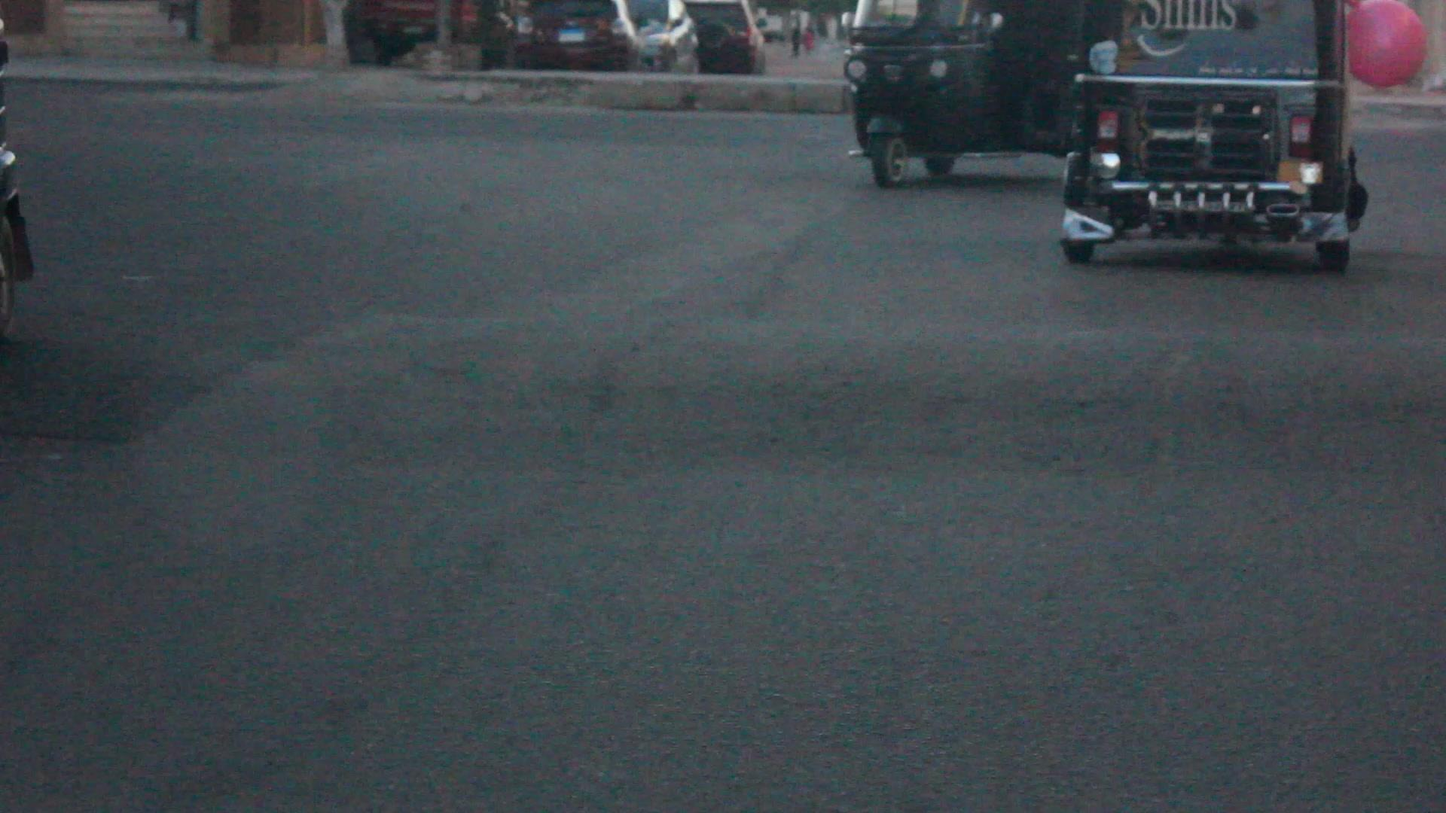Bump: (32, 295, 1446, 476)
